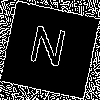N: (24, 24, 69, 77)
